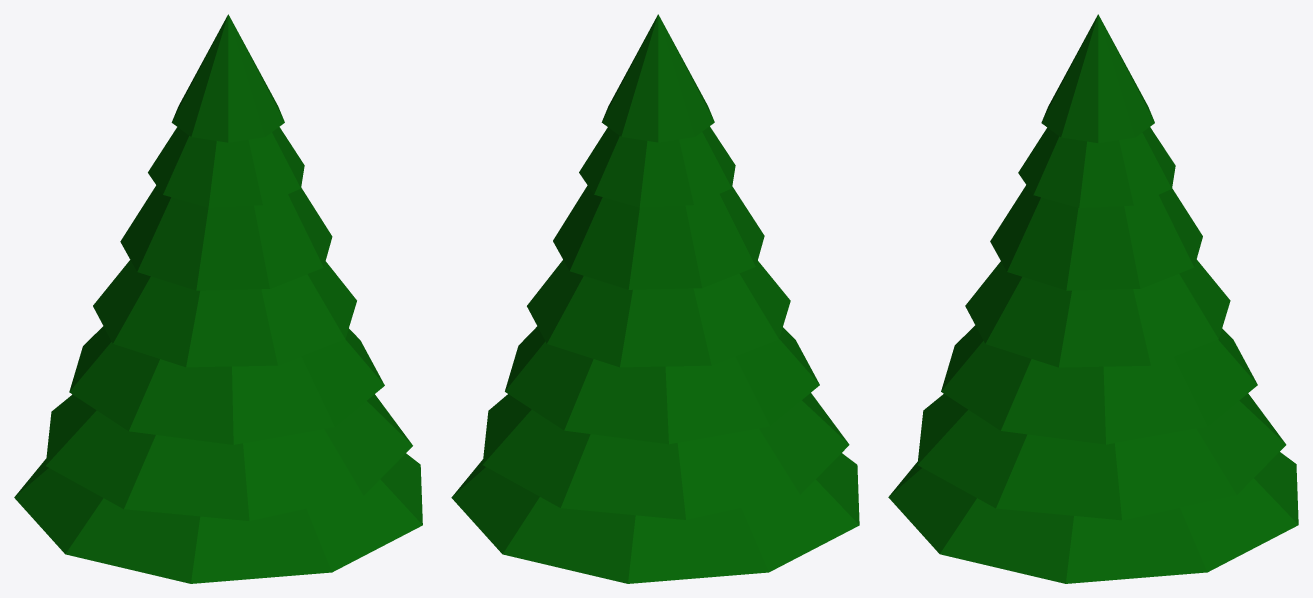
Rendered from PineTree.fbx.
3 views of the same model, side by side, from view 1: azimuth 30°, elevation 25°; view 2: azimuth 150°, elevation 25°; view 3: azimuth 270°, elevation 25° (orthographic).
Parts seen in each view (by area): view 1: pCone6, pCone7, pCone5, pCone4, pCone3, pCone2, pCone1; view 2: pCone6, pCone7, pCone5, pCone4, pCone3, pCone2, pCone1; view 3: pCone6, pCone7, pCone5, pCone4, pCone3, pCone2, pCone1.
Boxes of the visible parts, box(x1,y1,x2,y2) form: pCone6: box(45, 394, 412, 520); pCone7: box(14, 453, 422, 583); pCone5: box(69, 326, 384, 444); pCone4: box(93, 260, 356, 367); pCone3: box(120, 185, 332, 290); pCone2: box(148, 127, 304, 207); pCone1: box(171, 14, 284, 142); pCone6: box(482, 393, 849, 519); pCone7: box(451, 453, 859, 583); pCone5: box(505, 326, 819, 444); pCone4: box(527, 260, 790, 367); pCone3: box(553, 185, 764, 289); pCone2: box(579, 126, 735, 207); pCone1: box(601, 14, 714, 142); pCone6: box(917, 393, 1286, 520); pCone7: box(888, 452, 1298, 583); pCone5: box(941, 325, 1257, 444); pCone4: box(965, 259, 1230, 367); pCone3: box(990, 185, 1202, 290); pCone2: box(1018, 127, 1175, 207); pCone1: box(1041, 14, 1154, 143).
Size of the model in its own units: 6.62 by 9.49 by 6.54.
